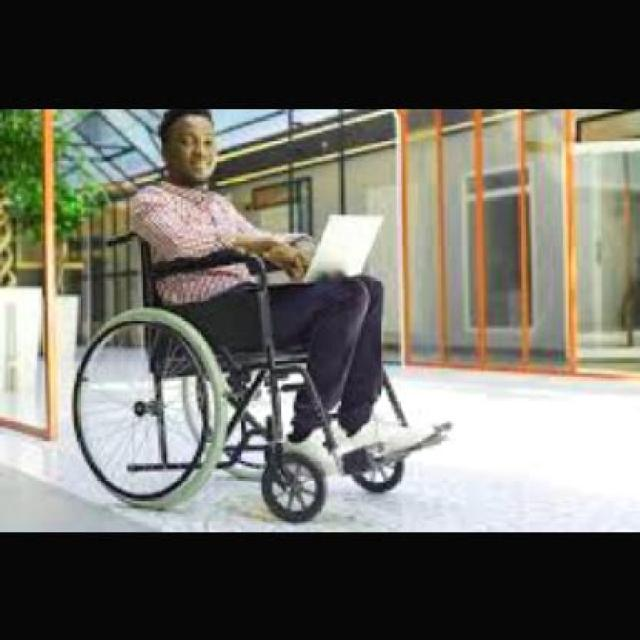wheelchairs: (73, 224, 415, 521)
